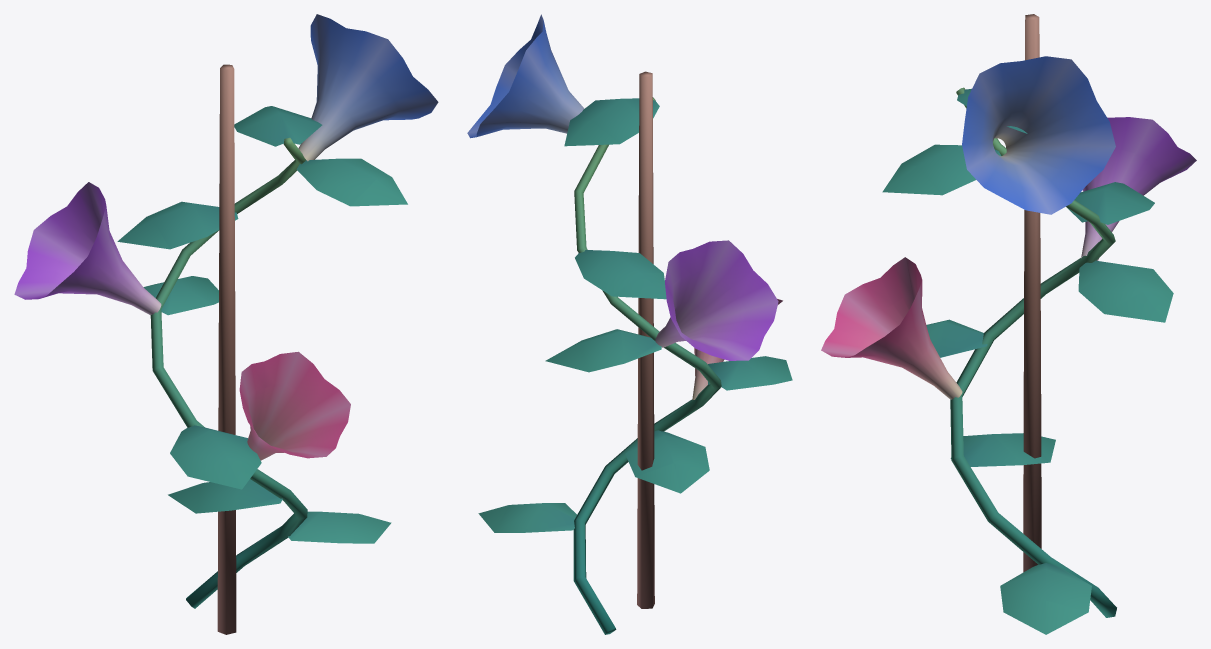
The model's file is verdant_flower_trumpet.glb.
The picture shows the model from 3 angles, left to right: view 1: azimuth 30°, elevation 25°; view 2: azimuth 150°, elevation 25°; view 3: azimuth 270°, elevation 25°; orthographic projection. The views are drawn at different scales.
Parts seen in each view (by area): view 1: verdant_flower_trumpet; view 2: verdant_flower_trumpet; view 3: verdant_flower_trumpet.
Boxes of the visible parts, box(x1,y1,x2,y2) form: verdant_flower_trumpet: box(14, 14, 438, 634); verdant_flower_trumpet: box(467, 14, 792, 634); verdant_flower_trumpet: box(821, 14, 1196, 634).
Bounding box in the file's own units: 0.6357 × 1.04 × 0.5734.
